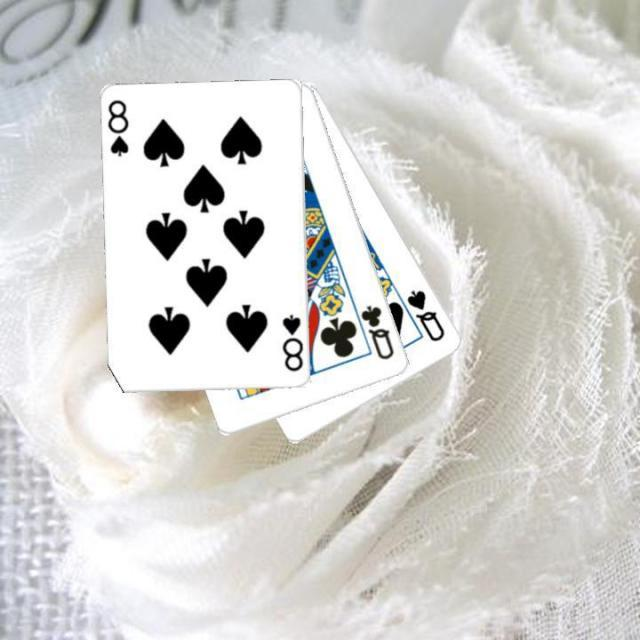8S: (279, 311, 305, 374), (105, 97, 131, 159)
QC: (358, 301, 397, 362)
QS: (402, 285, 448, 344)
